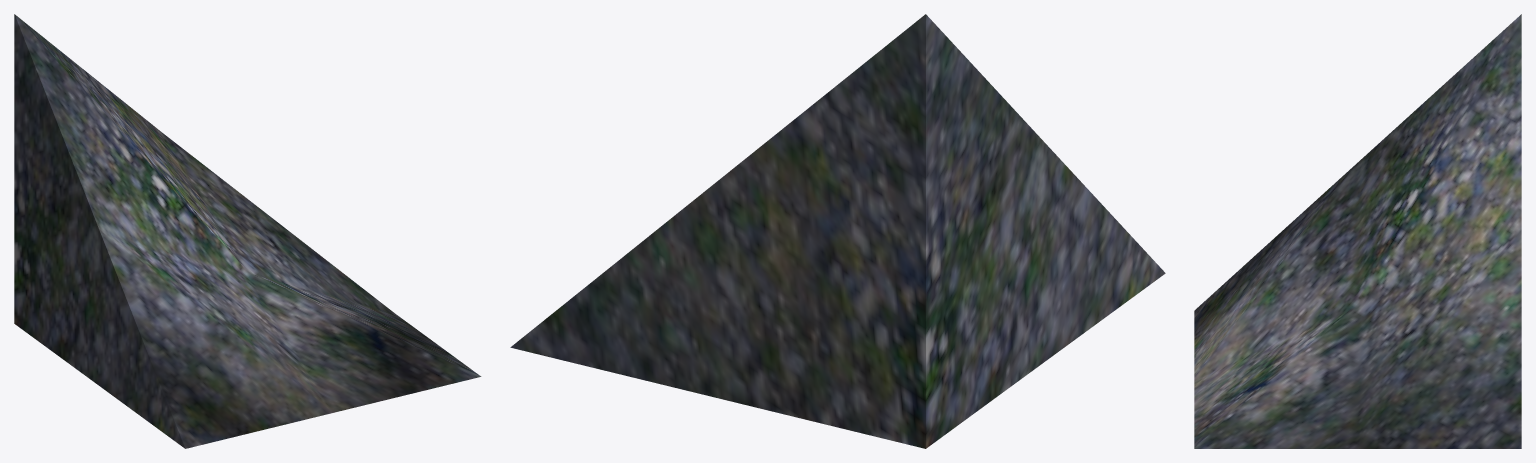
File: hillintersect.obj
3 views of the same model, side by side, from view 1: azimuth 30°, elevation 25°; view 2: azimuth 150°, elevation 25°; view 3: azimuth 270°, elevation 25° (orthographic). The views are drawn at different scales.
Size of the model in its own units: 2 by 2 by 2.
